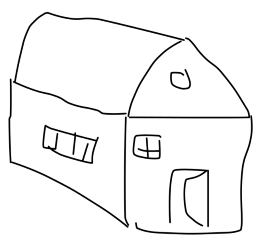big_house: (1, 1, 260, 245)
closed_window: (34, 123, 103, 167), (128, 128, 165, 164)
door: (162, 160, 214, 239)
roof: (7, 7, 254, 127)
wall: (118, 108, 256, 239)
